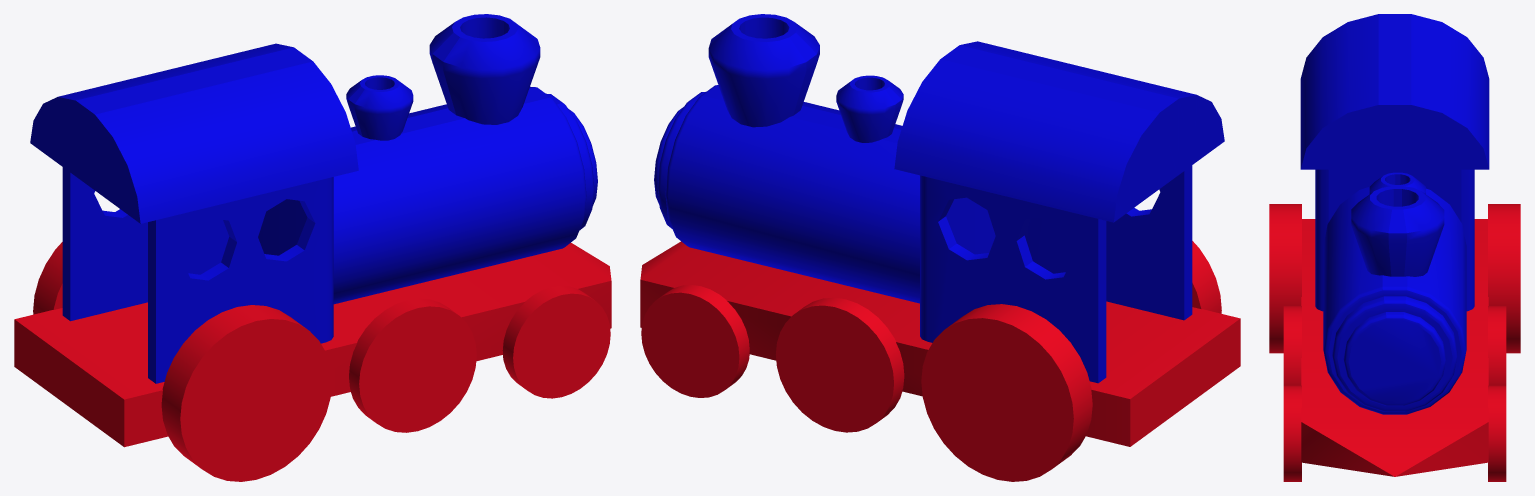
The model's file is Trem.fbx.
3 renders of one model, left to right at view 1: azimuth 30°, elevation 25°; view 2: azimuth 150°, elevation 25°; view 3: azimuth 270°, elevation 25°, orthographic. The views are drawn at different scales.
Parts seen in each view (by area): view 1: Cube.003; view 2: Cube.003; view 3: Cube.003.
Part boxes in pixels (left/top/right/bottom): Cube.003: left=14, top=14, right=611, bottom=481; Cube.003: left=640, top=14, right=1240, bottom=481; Cube.003: left=1269, top=14, right=1520, bottom=481.
Size of the model in its own units: 712 by 431 by 336.
